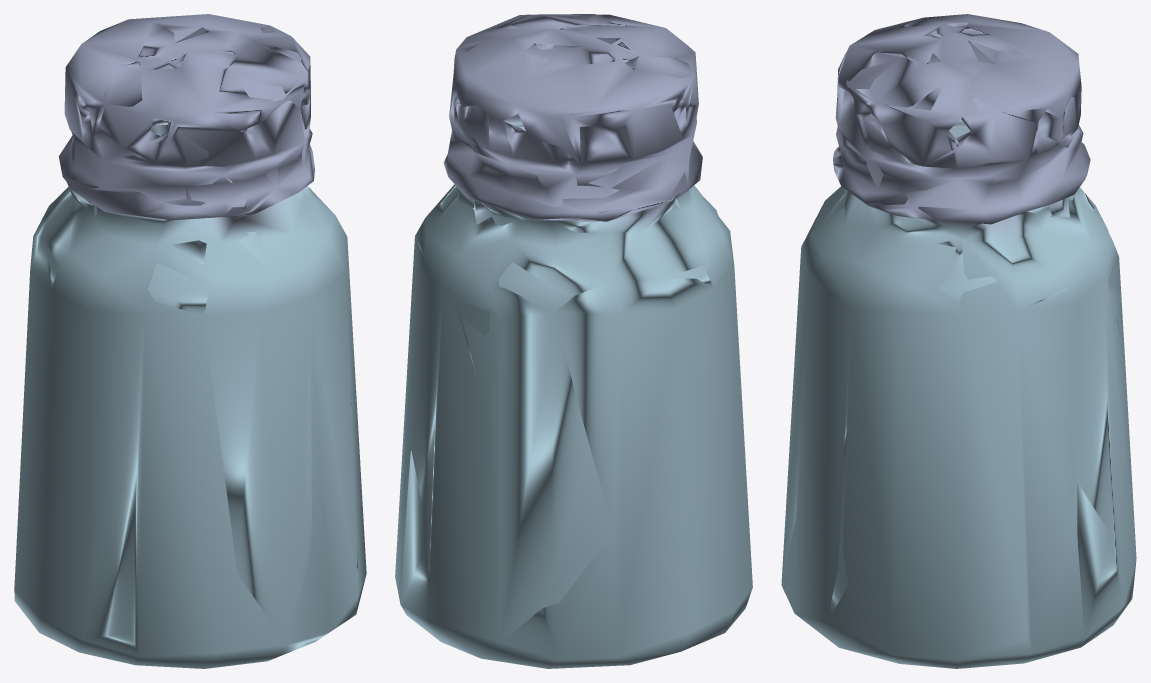
File: gen3d-salt-shaker-lod1.glb
3 renders of one model, left to right at view 1: azimuth 30°, elevation 25°; view 2: azimuth 150°, elevation 25°; view 3: azimuth 270°, elevation 25°, orthographic.
Visible parts, largest first — view 1: part_0; view 2: part_0; view 3: part_0.
Boxes of the visible parts, box(x1,y1,x2,y2) form: part_0: box(14, 14, 366, 668); part_0: box(395, 14, 752, 668); part_0: box(781, 14, 1136, 668).
Size of the model in its own units: 0.58 by 0.9997 by 0.5773.
